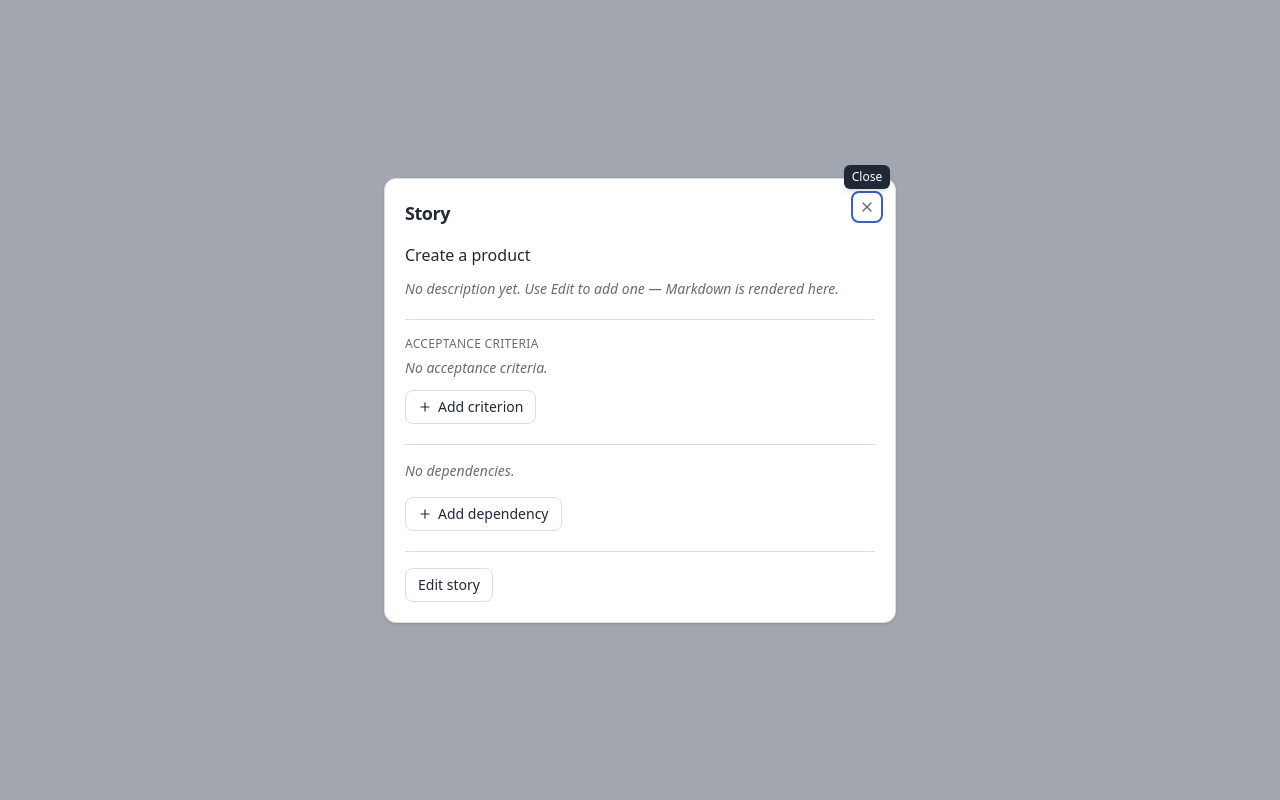
Test: actionError › viewStory dependencies › keeps the picker collapsed until it is asked for
Click the button "Add dependency".
click(483, 514)  # box [405,496,562,530]
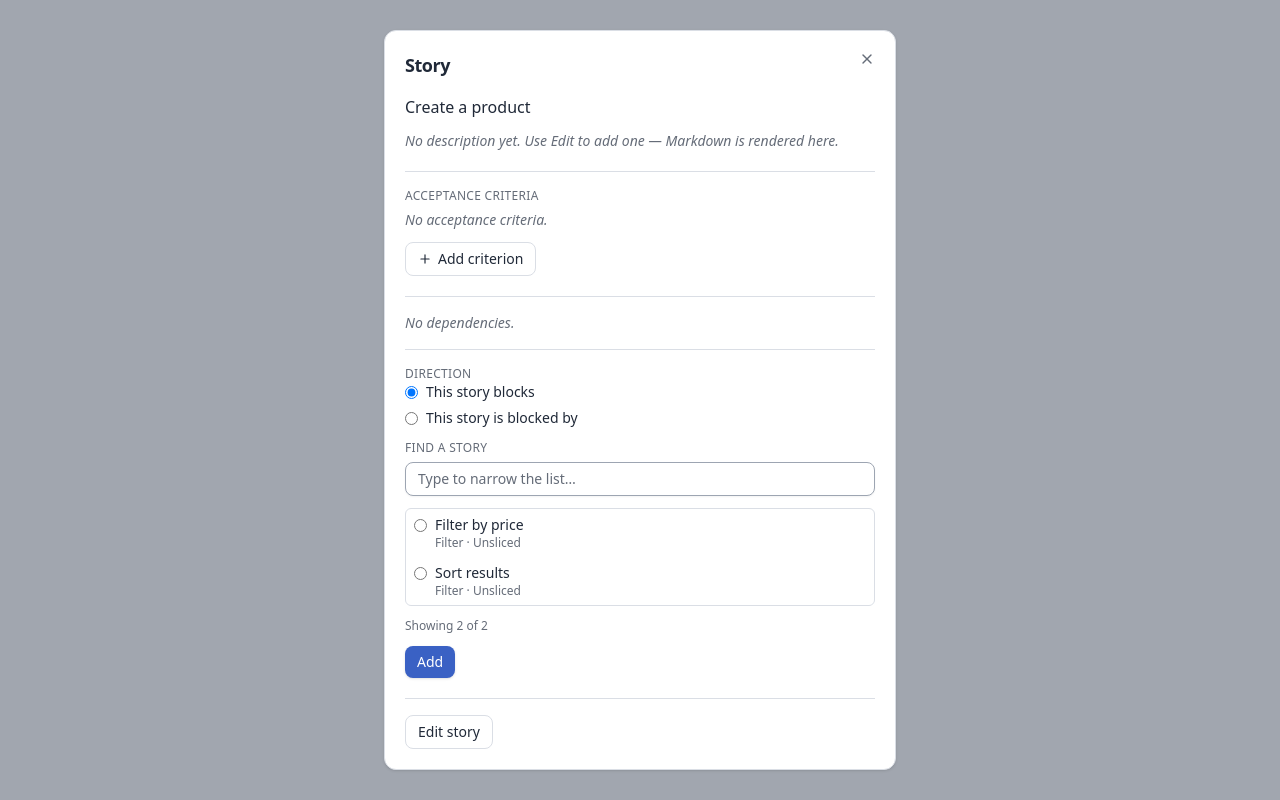
Expected: the search field is shown, [405,462,875,496]
